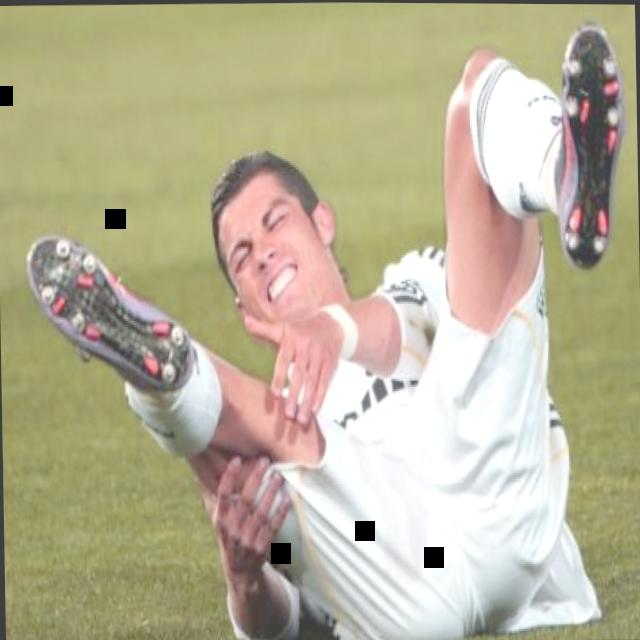Fall-Detected: (13, 0, 627, 640)
